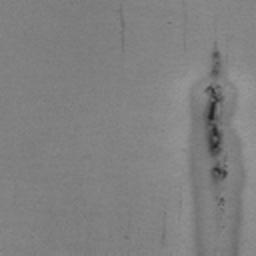Slag inclusion: (202, 84, 227, 160), (210, 160, 228, 182), (210, 49, 221, 76), (216, 196, 224, 211)
